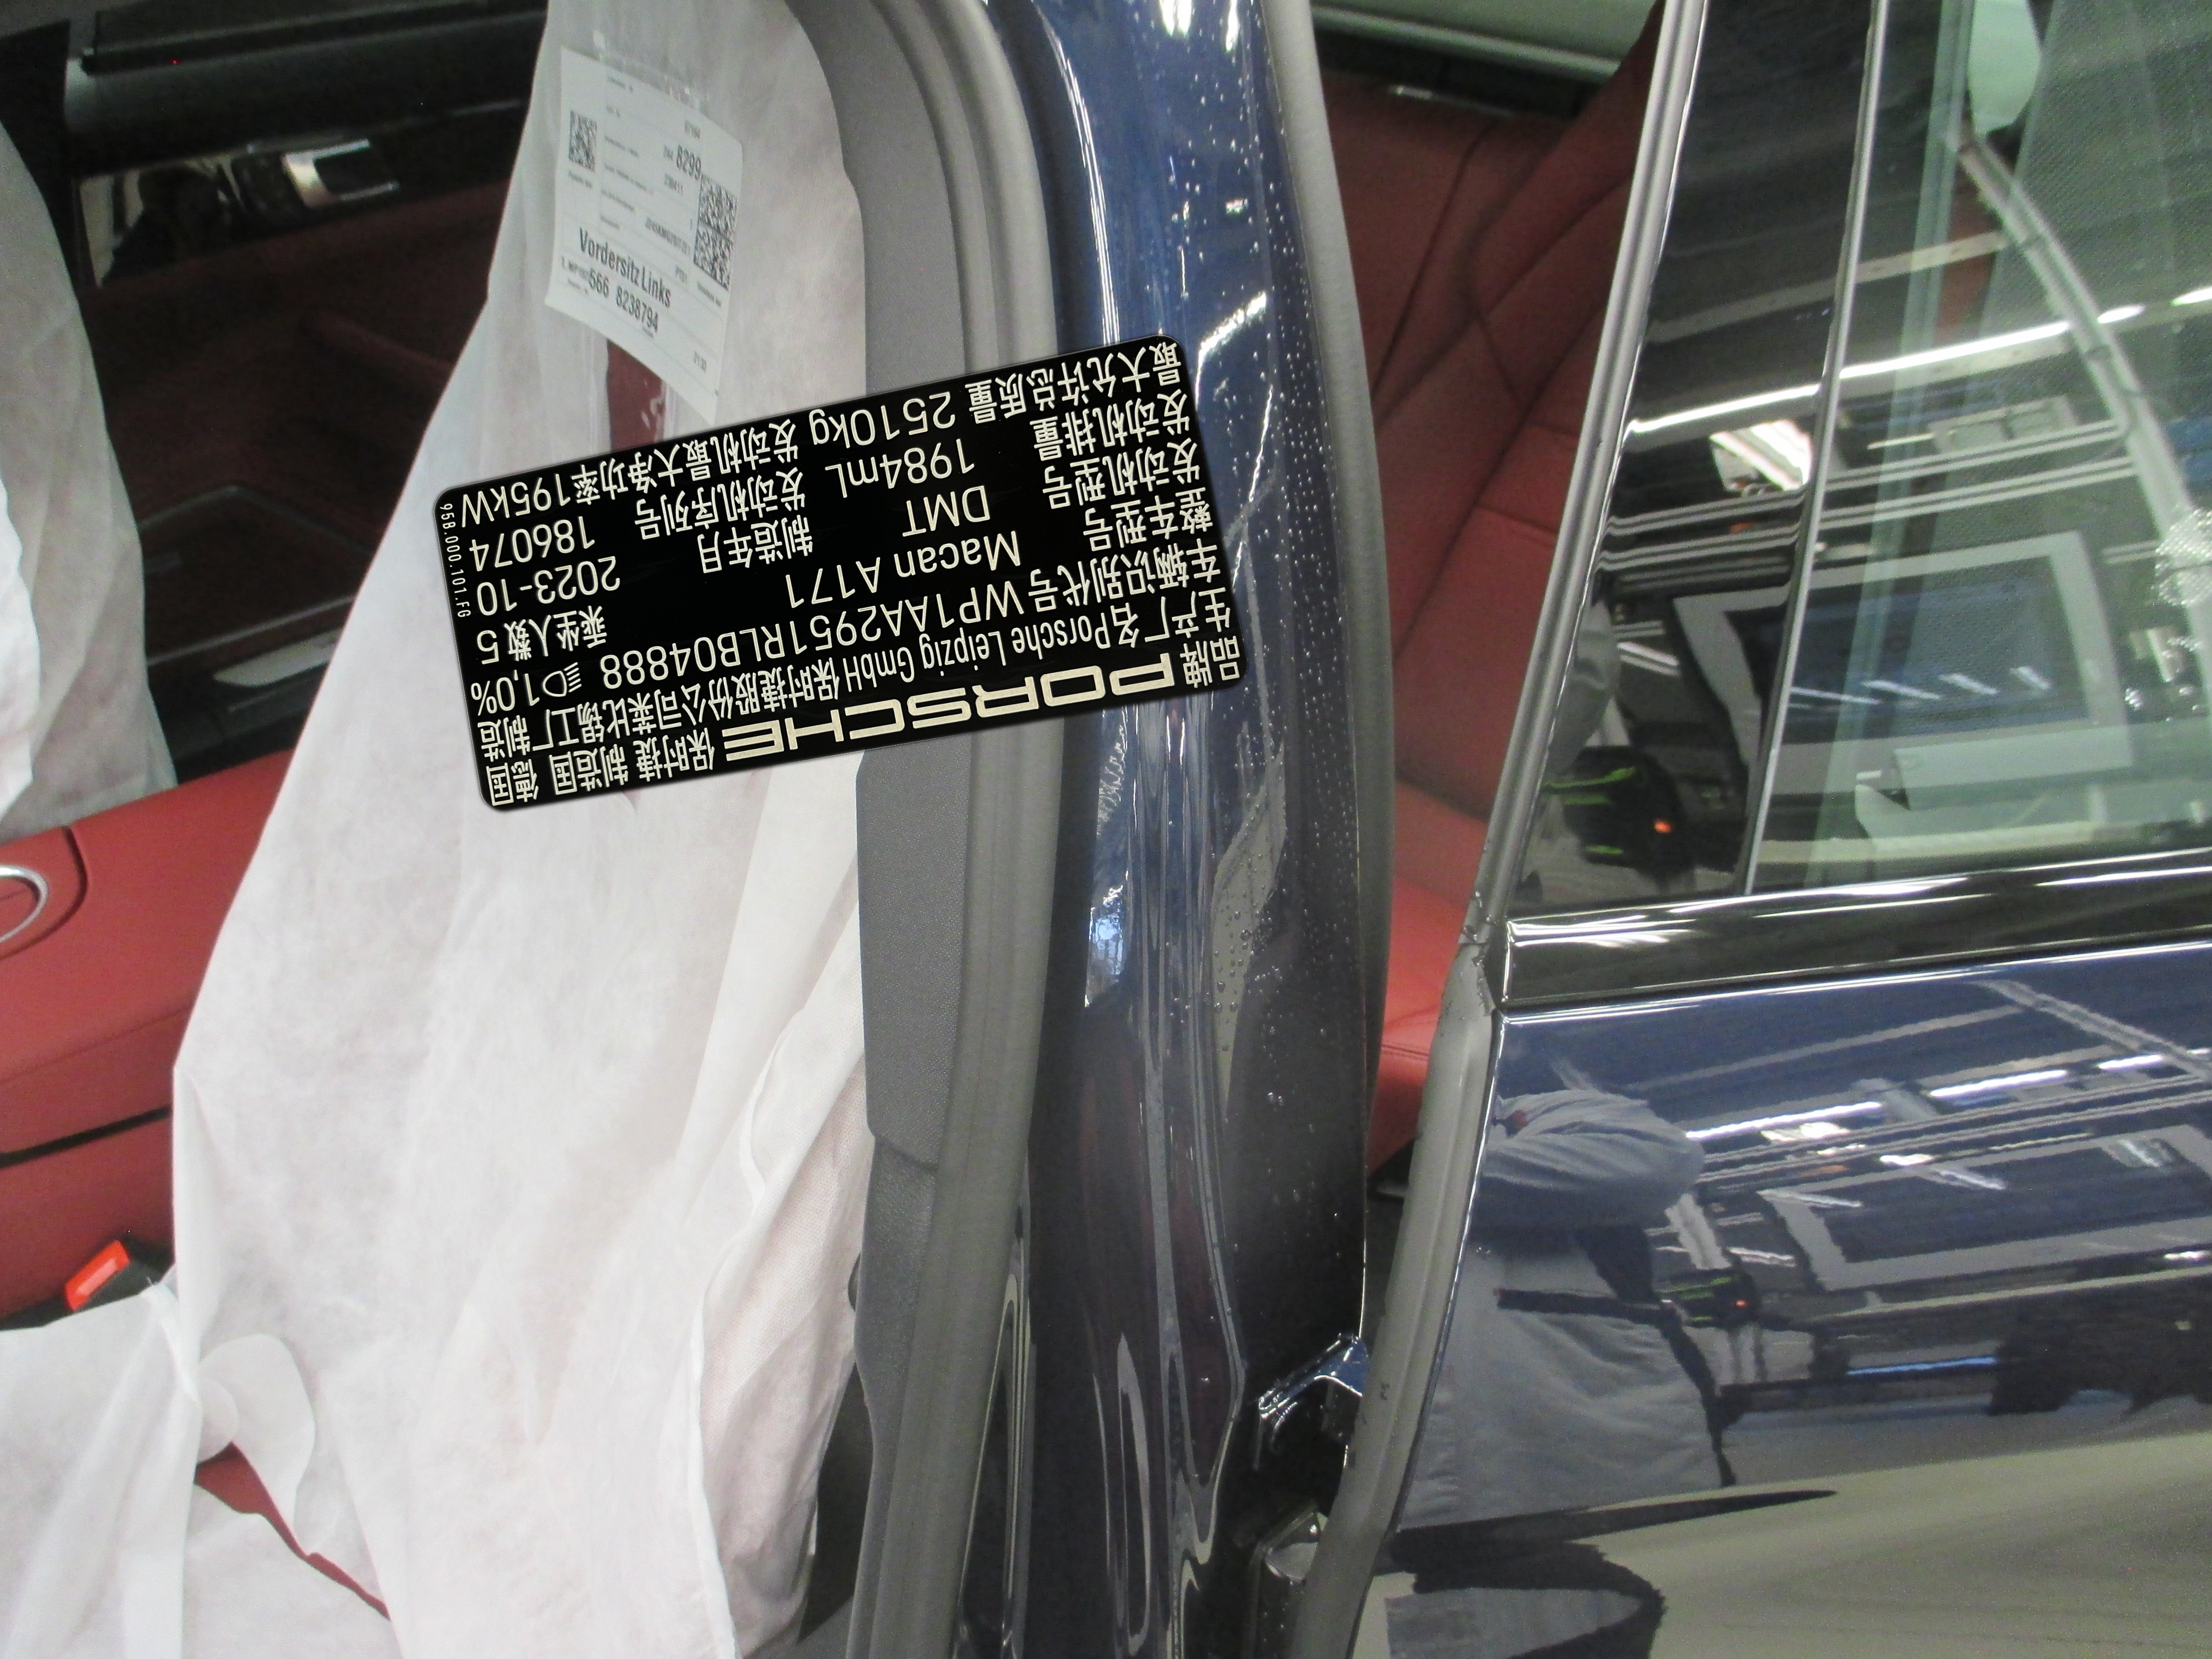Typlabel-China: (434, 335, 1247, 812)
